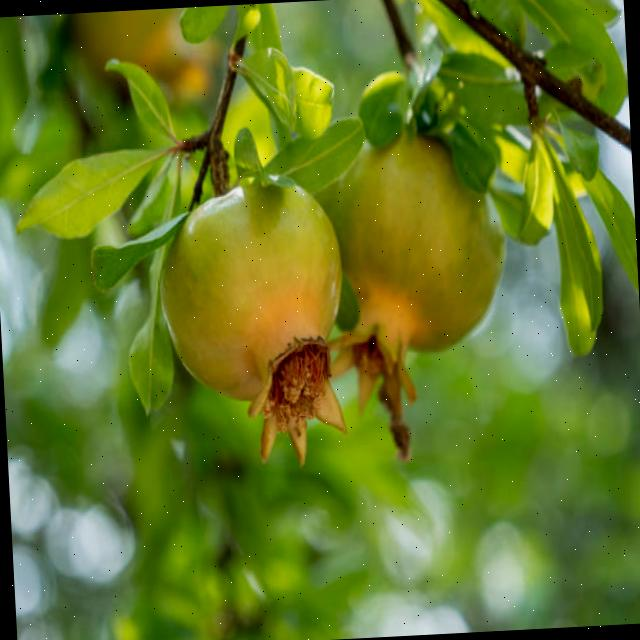Unripe: (312, 115, 515, 424), (152, 164, 350, 474)
